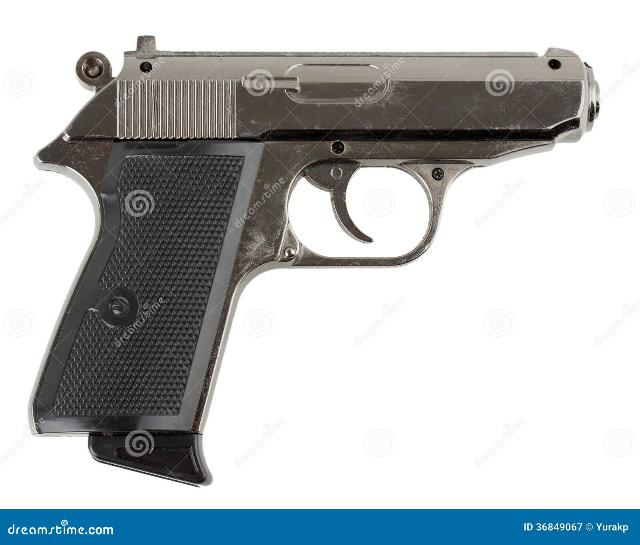pistol: (32, 41, 600, 486)
